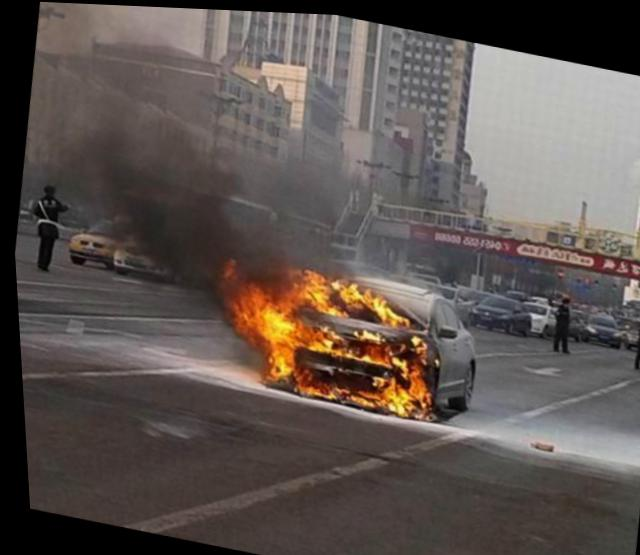fire: (289, 372, 381, 406), (260, 311, 302, 380), (237, 281, 286, 340), (403, 362, 438, 414), (293, 266, 334, 307), (374, 377, 409, 412), (334, 281, 385, 305), (298, 320, 337, 351), (358, 334, 392, 363), (378, 301, 406, 322)
